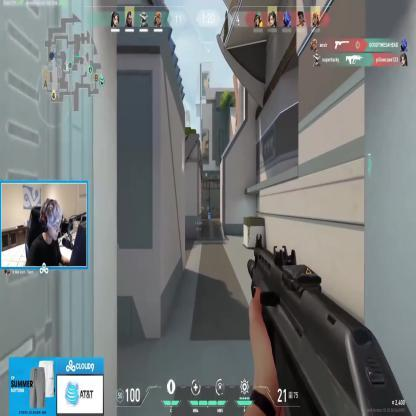enemy: (200, 204, 204, 219)
enemy_head: (202, 204, 204, 208)
